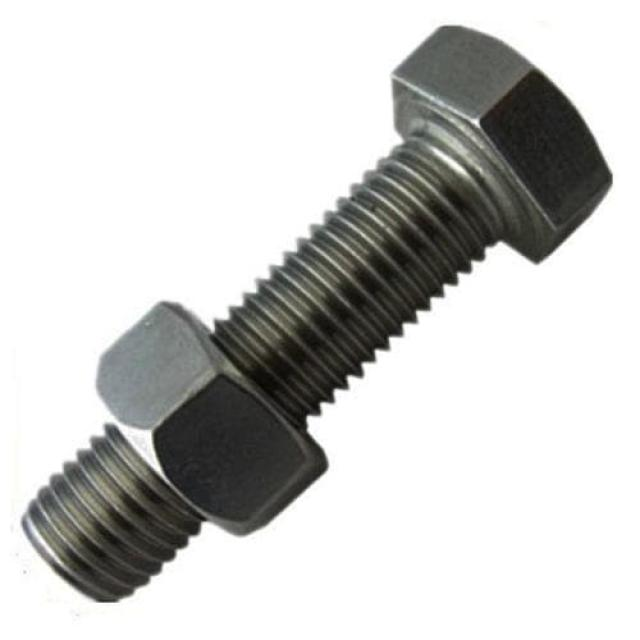Logam: (20, 9, 619, 612)
